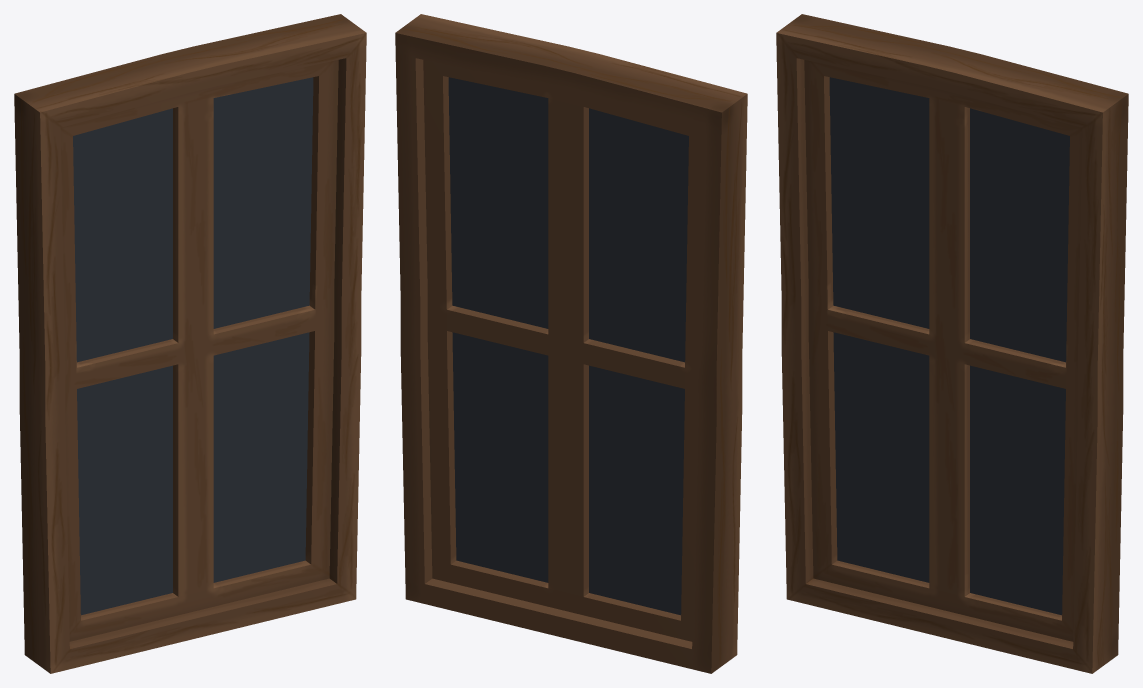
The model's file is window2.fbx.
3 views of the same model, side by side, from view 1: azimuth 30°, elevation 25°; view 2: azimuth 150°, elevation 25°; view 3: azimuth 330°, elevation 25° (orthographic).
Parts seen in each view (by area): view 1: Window2_border; view 2: Window2_border; view 3: Window2_border.
Boxes of the visible parts, x1,y1,x2,y2 form: Window2_border: (14,14,366,673); Window2_border: (395,14,747,673); Window2_border: (776,14,1128,673).
Bounding box in the file's own units: 1.23 × 2.04 × 0.1697.
